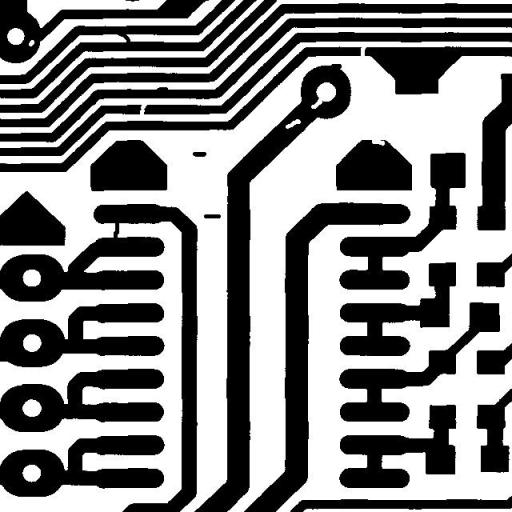copper: (196, 206, 228, 226), (184, 144, 214, 164)
mousebite: (303, 88, 333, 116), (364, 131, 392, 153)
open: (132, 94, 154, 123), (352, 37, 374, 65)
pin-hole: (278, 111, 308, 136), (20, 32, 42, 54)
short: (109, 23, 143, 57), (106, 211, 126, 246)
spur: (149, 79, 175, 99), (323, 56, 349, 76)
